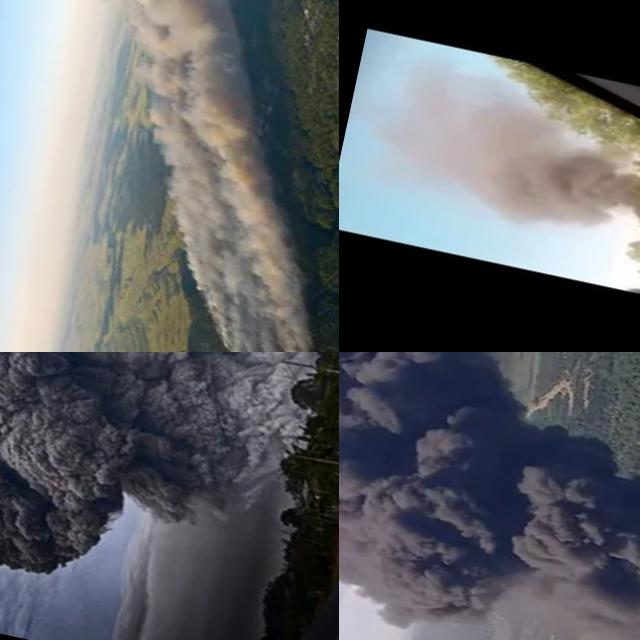smoke: (0, 0, 339, 352), (339, 352, 640, 640), (0, 352, 313, 614), (366, 60, 640, 249)
